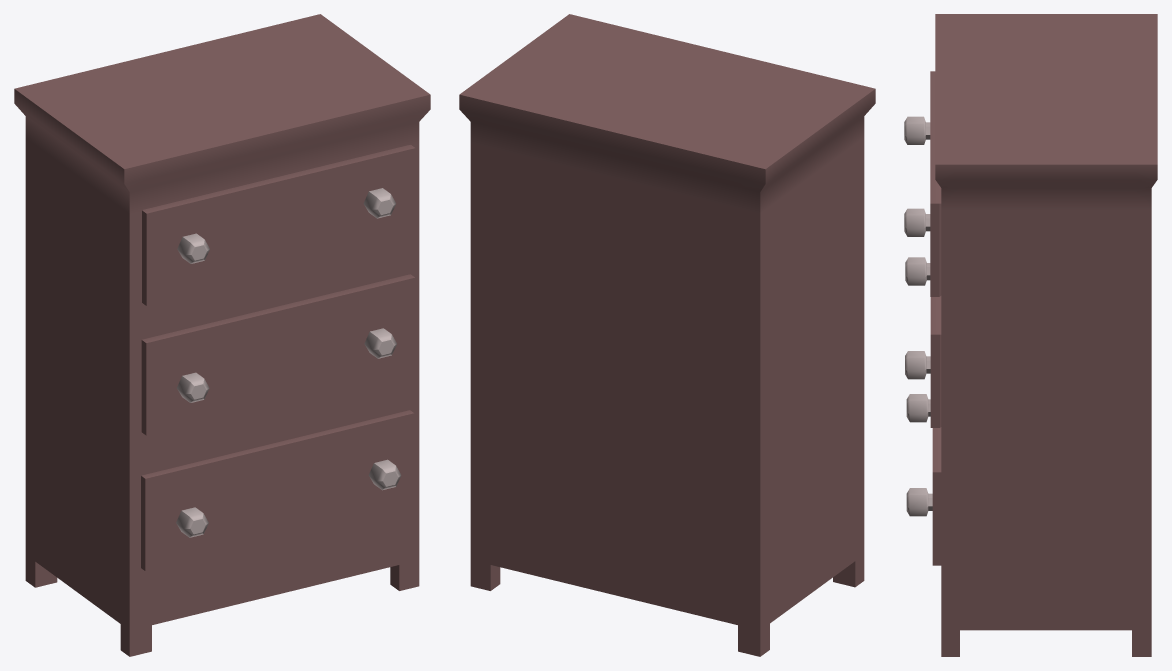
The model's file is DresserMostRecent.fbx.
3 views of the same model, side by side, from view 1: azimuth 30°, elevation 25°; view 2: azimuth 150°, elevation 25°; view 3: azimuth 270°, elevation 25° (orthographic).
Visible parts, largest first — view 1: DresserForScaling:pCube2, DresserForScaling:pasted__pCube1 (×2), DresserForScaling:pCube1, DresserForScaling:dresserKnob1Right, DresserForScaling:DresserKnob2Left, DresserForScaling:DresserKnob3Left, DresserForScaling:dresserKnob1Left, DresserForScaling:dresserKnob3Right, DresserForScaling:DresserKnob2Right; view 2: DresserForScaling:pCube2; view 3: DresserForScaling:pCube2, DresserForScaling:pasted__pCube1 (×2), DresserForScaling:pCube1, DresserForScaling:dresserKnob1Left, DresserForScaling:dresserKnob3Right, DresserForScaling:dresserKnob1Right, DresserForScaling:DresserKnob2Right, DresserForScaling:DresserKnob2Left, DresserForScaling:DresserKnob3Left.
Part boxes in pixels (x1=…): DresserForScaling:pCube2: x1=14, y1=14, x2=430, y2=656; DresserForScaling:pasted__pCube1 (×2): x1=141, y1=274, x2=415, y2=571; DresserForScaling:pCube1: x1=142, y1=145, x2=415, y2=305; DresserForScaling:dresserKnob1Right: x1=363, y1=188, x2=396, y2=218; DresserForScaling:DresserKnob2Left: x1=177, y1=372, x2=209, y2=402; DresserForScaling:DresserKnob3Left: x1=176, y1=507, x2=208, y2=537; DresserForScaling:dresserKnob1Left: x1=177, y1=233, x2=209, y2=263; DresserForScaling:dresserKnob3Right: x1=368, y1=459, x2=401, y2=490; DresserForScaling:DresserKnob2Right: x1=364, y1=328, x2=396, y2=358; DresserForScaling:pCube2: x1=459, y1=14, x2=875, y2=656; DresserForScaling:pCube2: x1=935, y1=14, x2=1157, y2=656; DresserForScaling:pasted__pCube1 (×2): x1=930, y1=296, x2=941, y2=565; DresserForScaling:pCube1: x1=930, y1=71, x2=941, y2=296; DresserForScaling:dresserKnob1Left: x1=904, y1=116, x2=930, y2=144; DresserForScaling:dresserKnob3Right: x1=906, y1=488, x2=932, y2=516; DresserForScaling:dresserKnob1Right: x1=904, y1=208, x2=930, y2=236; DresserForScaling:DresserKnob2Right: x1=905, y1=351, x2=930, y2=379; DresserForScaling:DresserKnob2Left: x1=905, y1=257, x2=930, y2=285; DresserForScaling:DresserKnob3Left: x1=906, y1=394, x2=930, y2=422.
Size of the model in its own units: 0.9884 by 1.52 by 0.7017.
